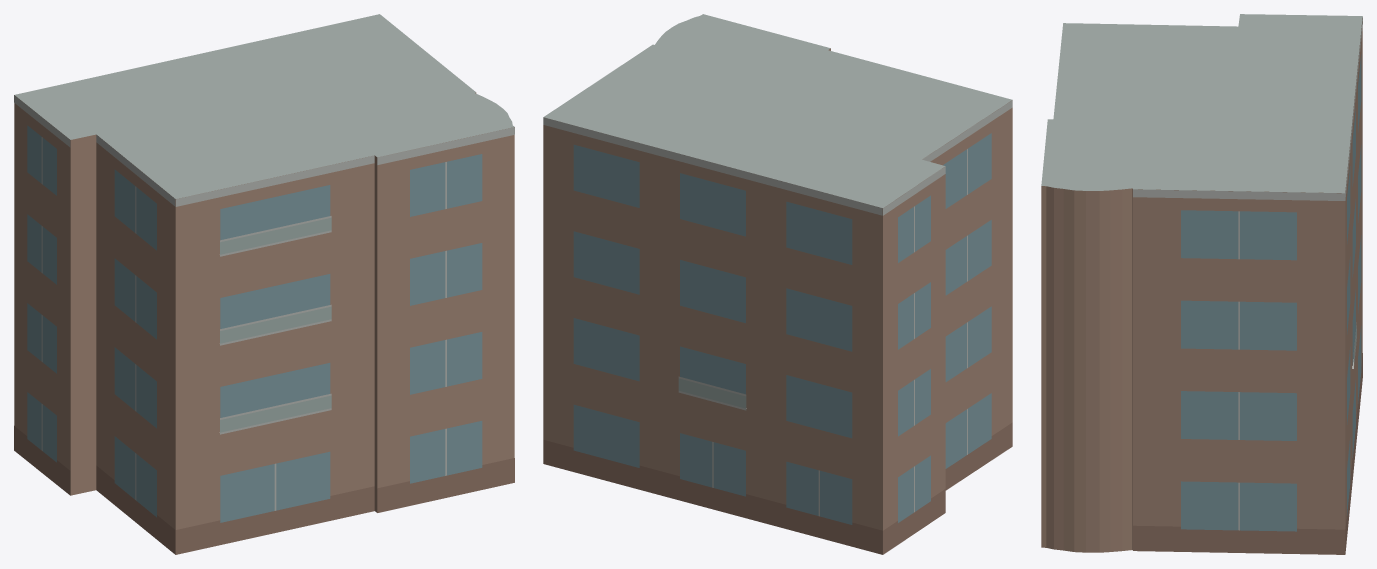
File: survey-upis-32976741.glb
The picture shows the model from 3 angles, left to right: view 1: azimuth 30°, elevation 25°; view 2: azimuth 150°, elevation 25°; view 3: azimuth 270°, elevation 25°; orthographic projection. The views are drawn at different scales.
Parts seen in each view (by area): view 1: survey-upis-32976741.tmp; view 2: survey-upis-32976741.tmp; view 3: survey-upis-32976741.tmp.
Part boxes in pixels (x1,y1,x2,y2): survey-upis-32976741.tmp: (14,14,514,554); survey-upis-32976741.tmp: (543,14,1012,554); survey-upis-32976741.tmp: (1041,14,1362,554).
Bounding box in the file's own units: 11.79 × 11.09 × 8.94.
